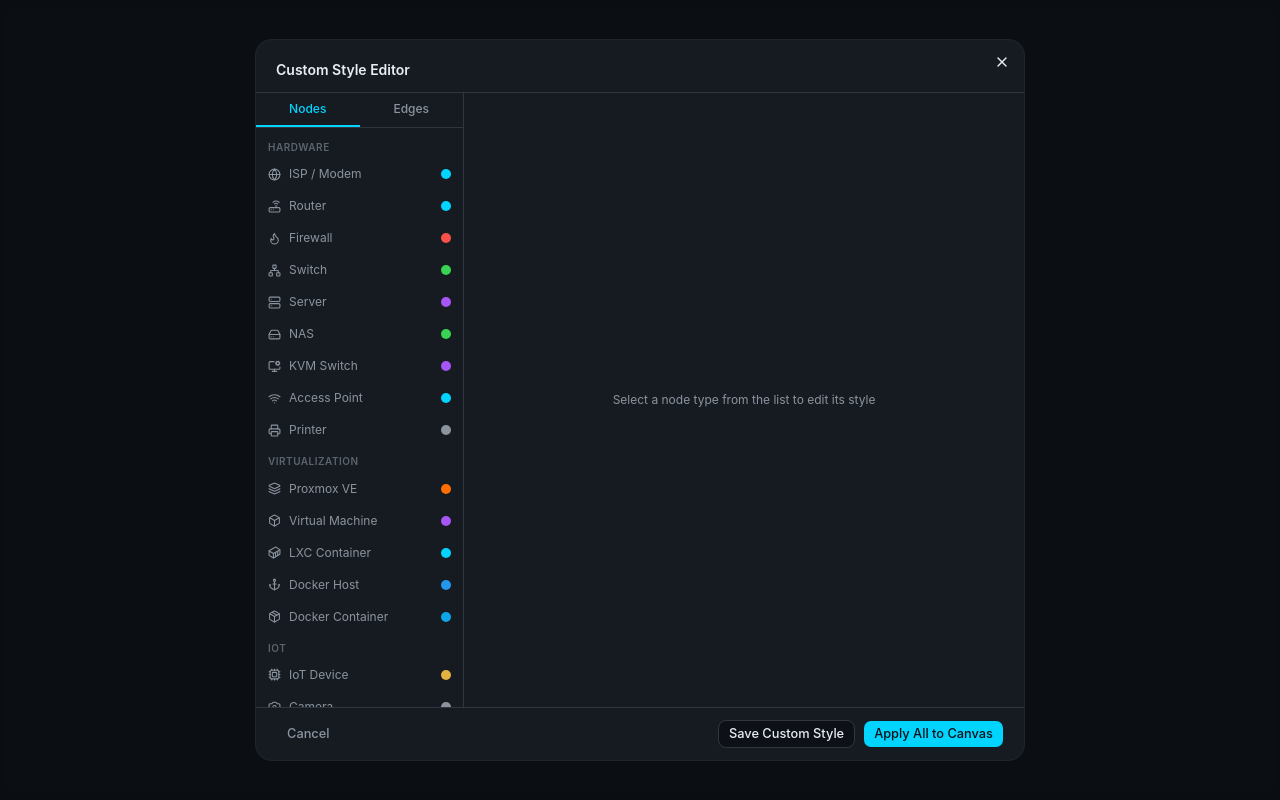
Test: CustomStyleModal › shows per-side default connection-point inputs in the node editor
The width and height of the screenshot is (1280, 800).
Click the button "Router": coordinates (360, 206) [256,190,463,222]
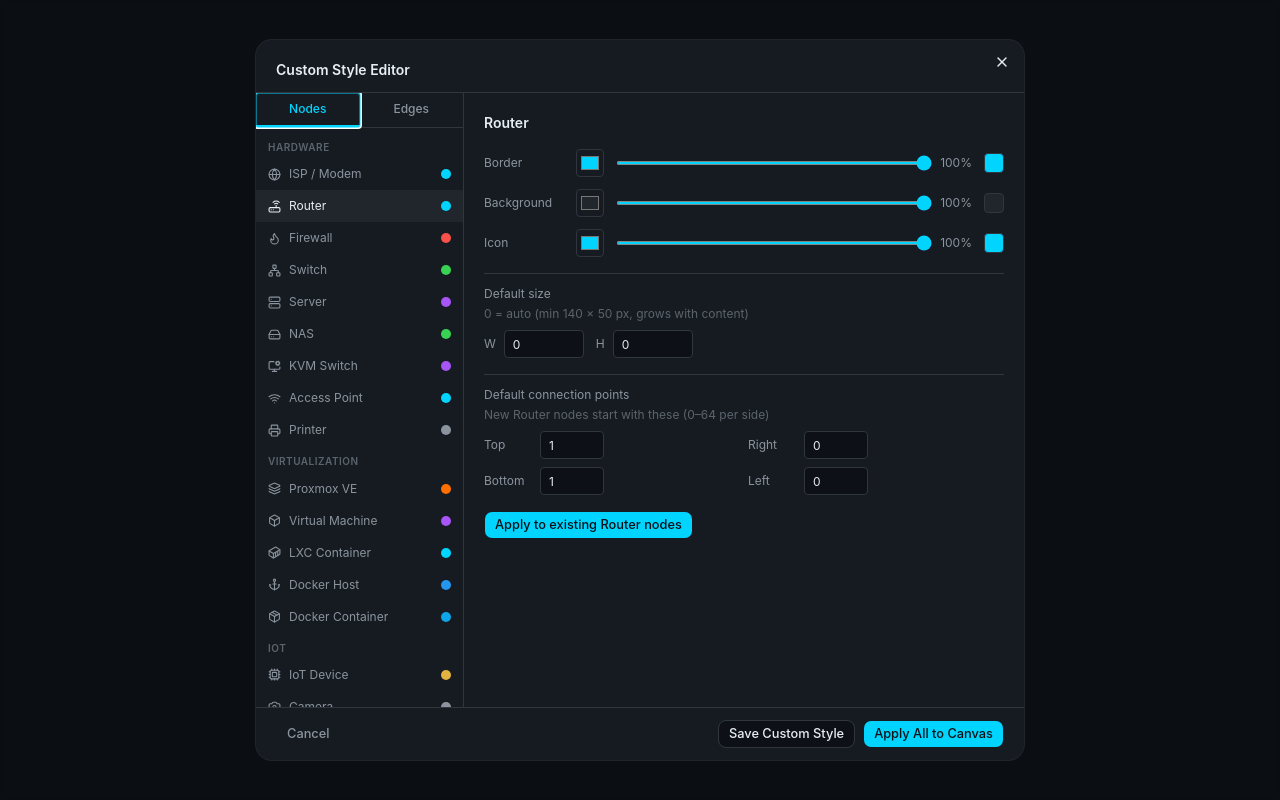
Result: the text "Default connection points" is shown at [484,387,629,402]
Result: the number field named "Top default connection points" is shown at [540,431,604,459]
Result: the number field named "Left default connection points" is shown at [804,467,868,495]
